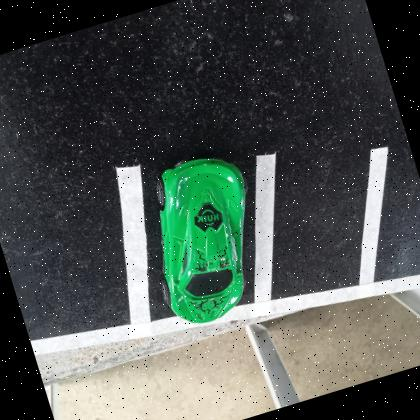Car: (160, 156, 246, 323)
